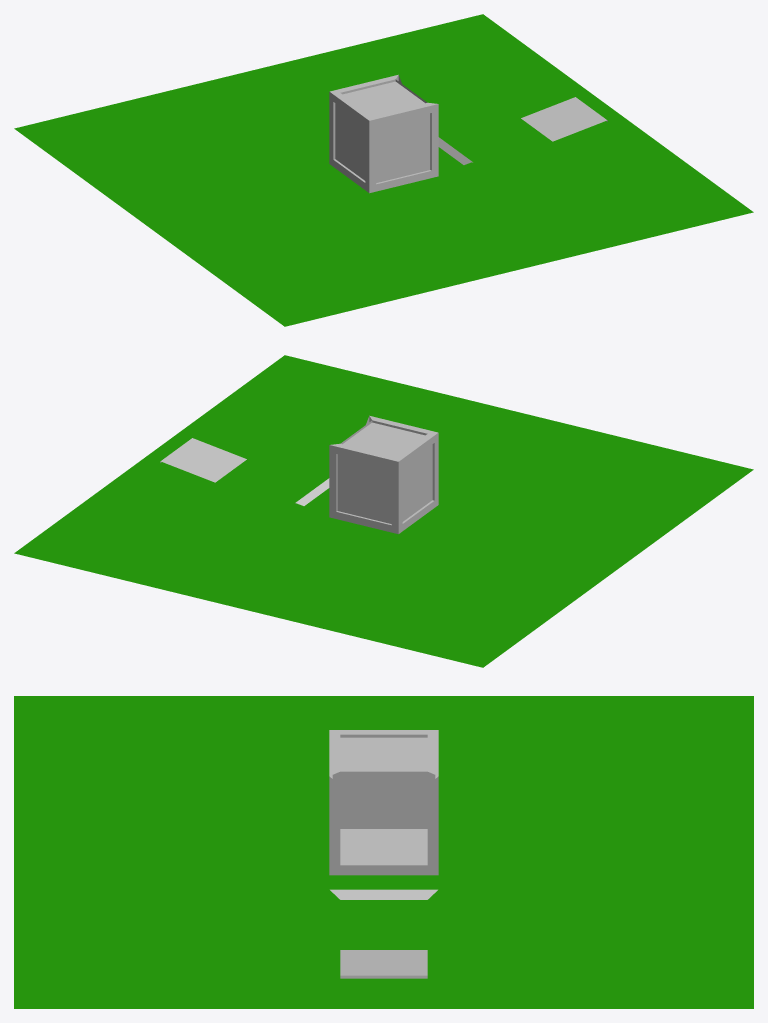
File: caixa_000134.obj
3 renders of one model, top to bottom at view 1: azimuth 30°, elevation 25°; view 2: azimuth 150°, elevation 25°; view 3: azimuth 270°, elevation 25°, orthographic. The views are drawn at different scales.
Visible parts, largest first — view 1: Plane, Cube_Cube.003, Cube.002_Cube.001; view 2: Plane, Cube_Cube.003, Cube.002_Cube.001; view 3: Plane, Cube_Cube.003, Cube.002_Cube.001, Cube.001_Cube.000.
Part boxes in pixels (<box>): Plane: <box>14,14,753,326</box>; Cube_Cube.003: <box>329,74,438,193</box>; Cube.002_Cube.001: <box>521,97,607,141</box>; Plane: <box>14,355,753,667</box>; Cube_Cube.003: <box>329,415,438,534</box>; Cube.002_Cube.001: <box>160,438,246,482</box>; Plane: <box>14,696,753,1008</box>; Cube_Cube.003: <box>329,730,438,875</box>; Cube.002_Cube.001: <box>340,950,427,978</box>; Cube.001_Cube.000: <box>330,889,437,899</box>.
Size of the model in its own units: 13.55 by 2.01 by 13.55.
